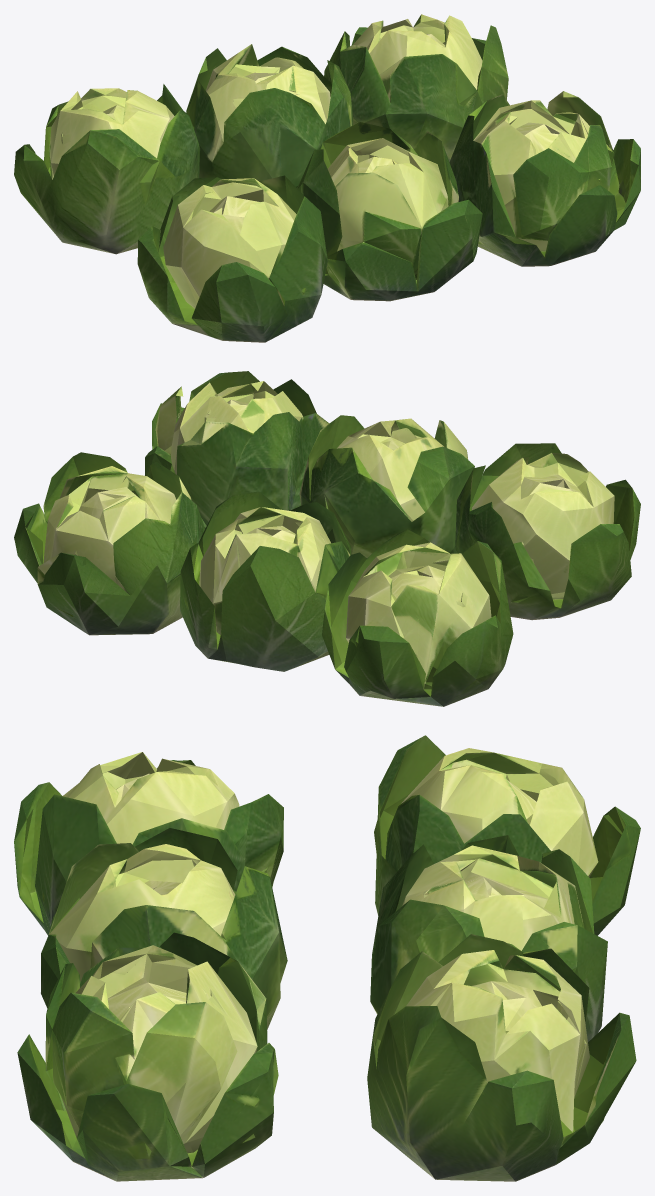
Rendered from lettuce_row.glb.
3 renders of one model, top to bottom at view 1: azimuth 30°, elevation 25°; view 2: azimuth 150°, elevation 25°; view 3: azimuth 270°, elevation 25°, orthographic. The views are drawn at different scales.
Bounding box in the file's own units: 1.89 × 0.4844 × 1.54.
1 material, 1 textured.
